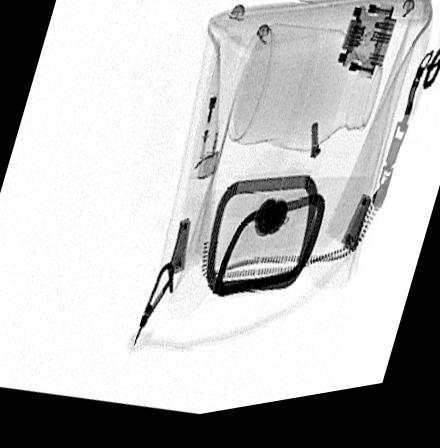Lighter: (188, 43, 243, 185)
